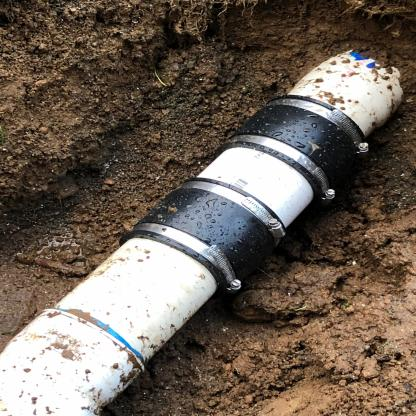PVC: (0, 46, 405, 416)
